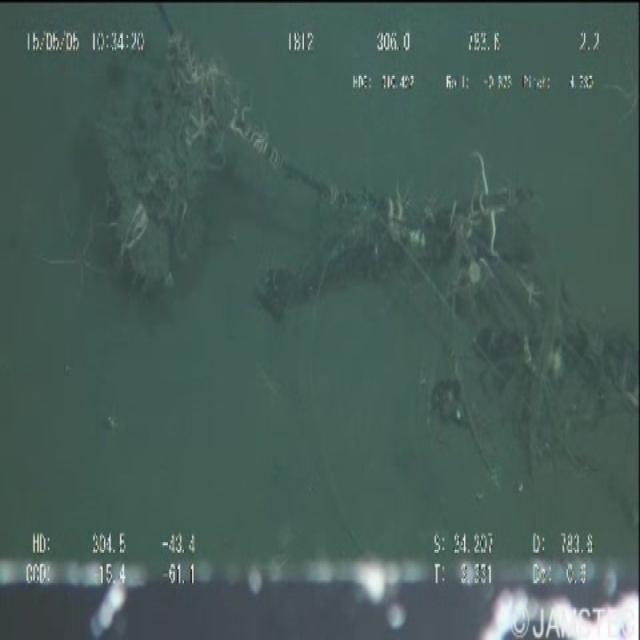Metal: (87, 7, 530, 307)
